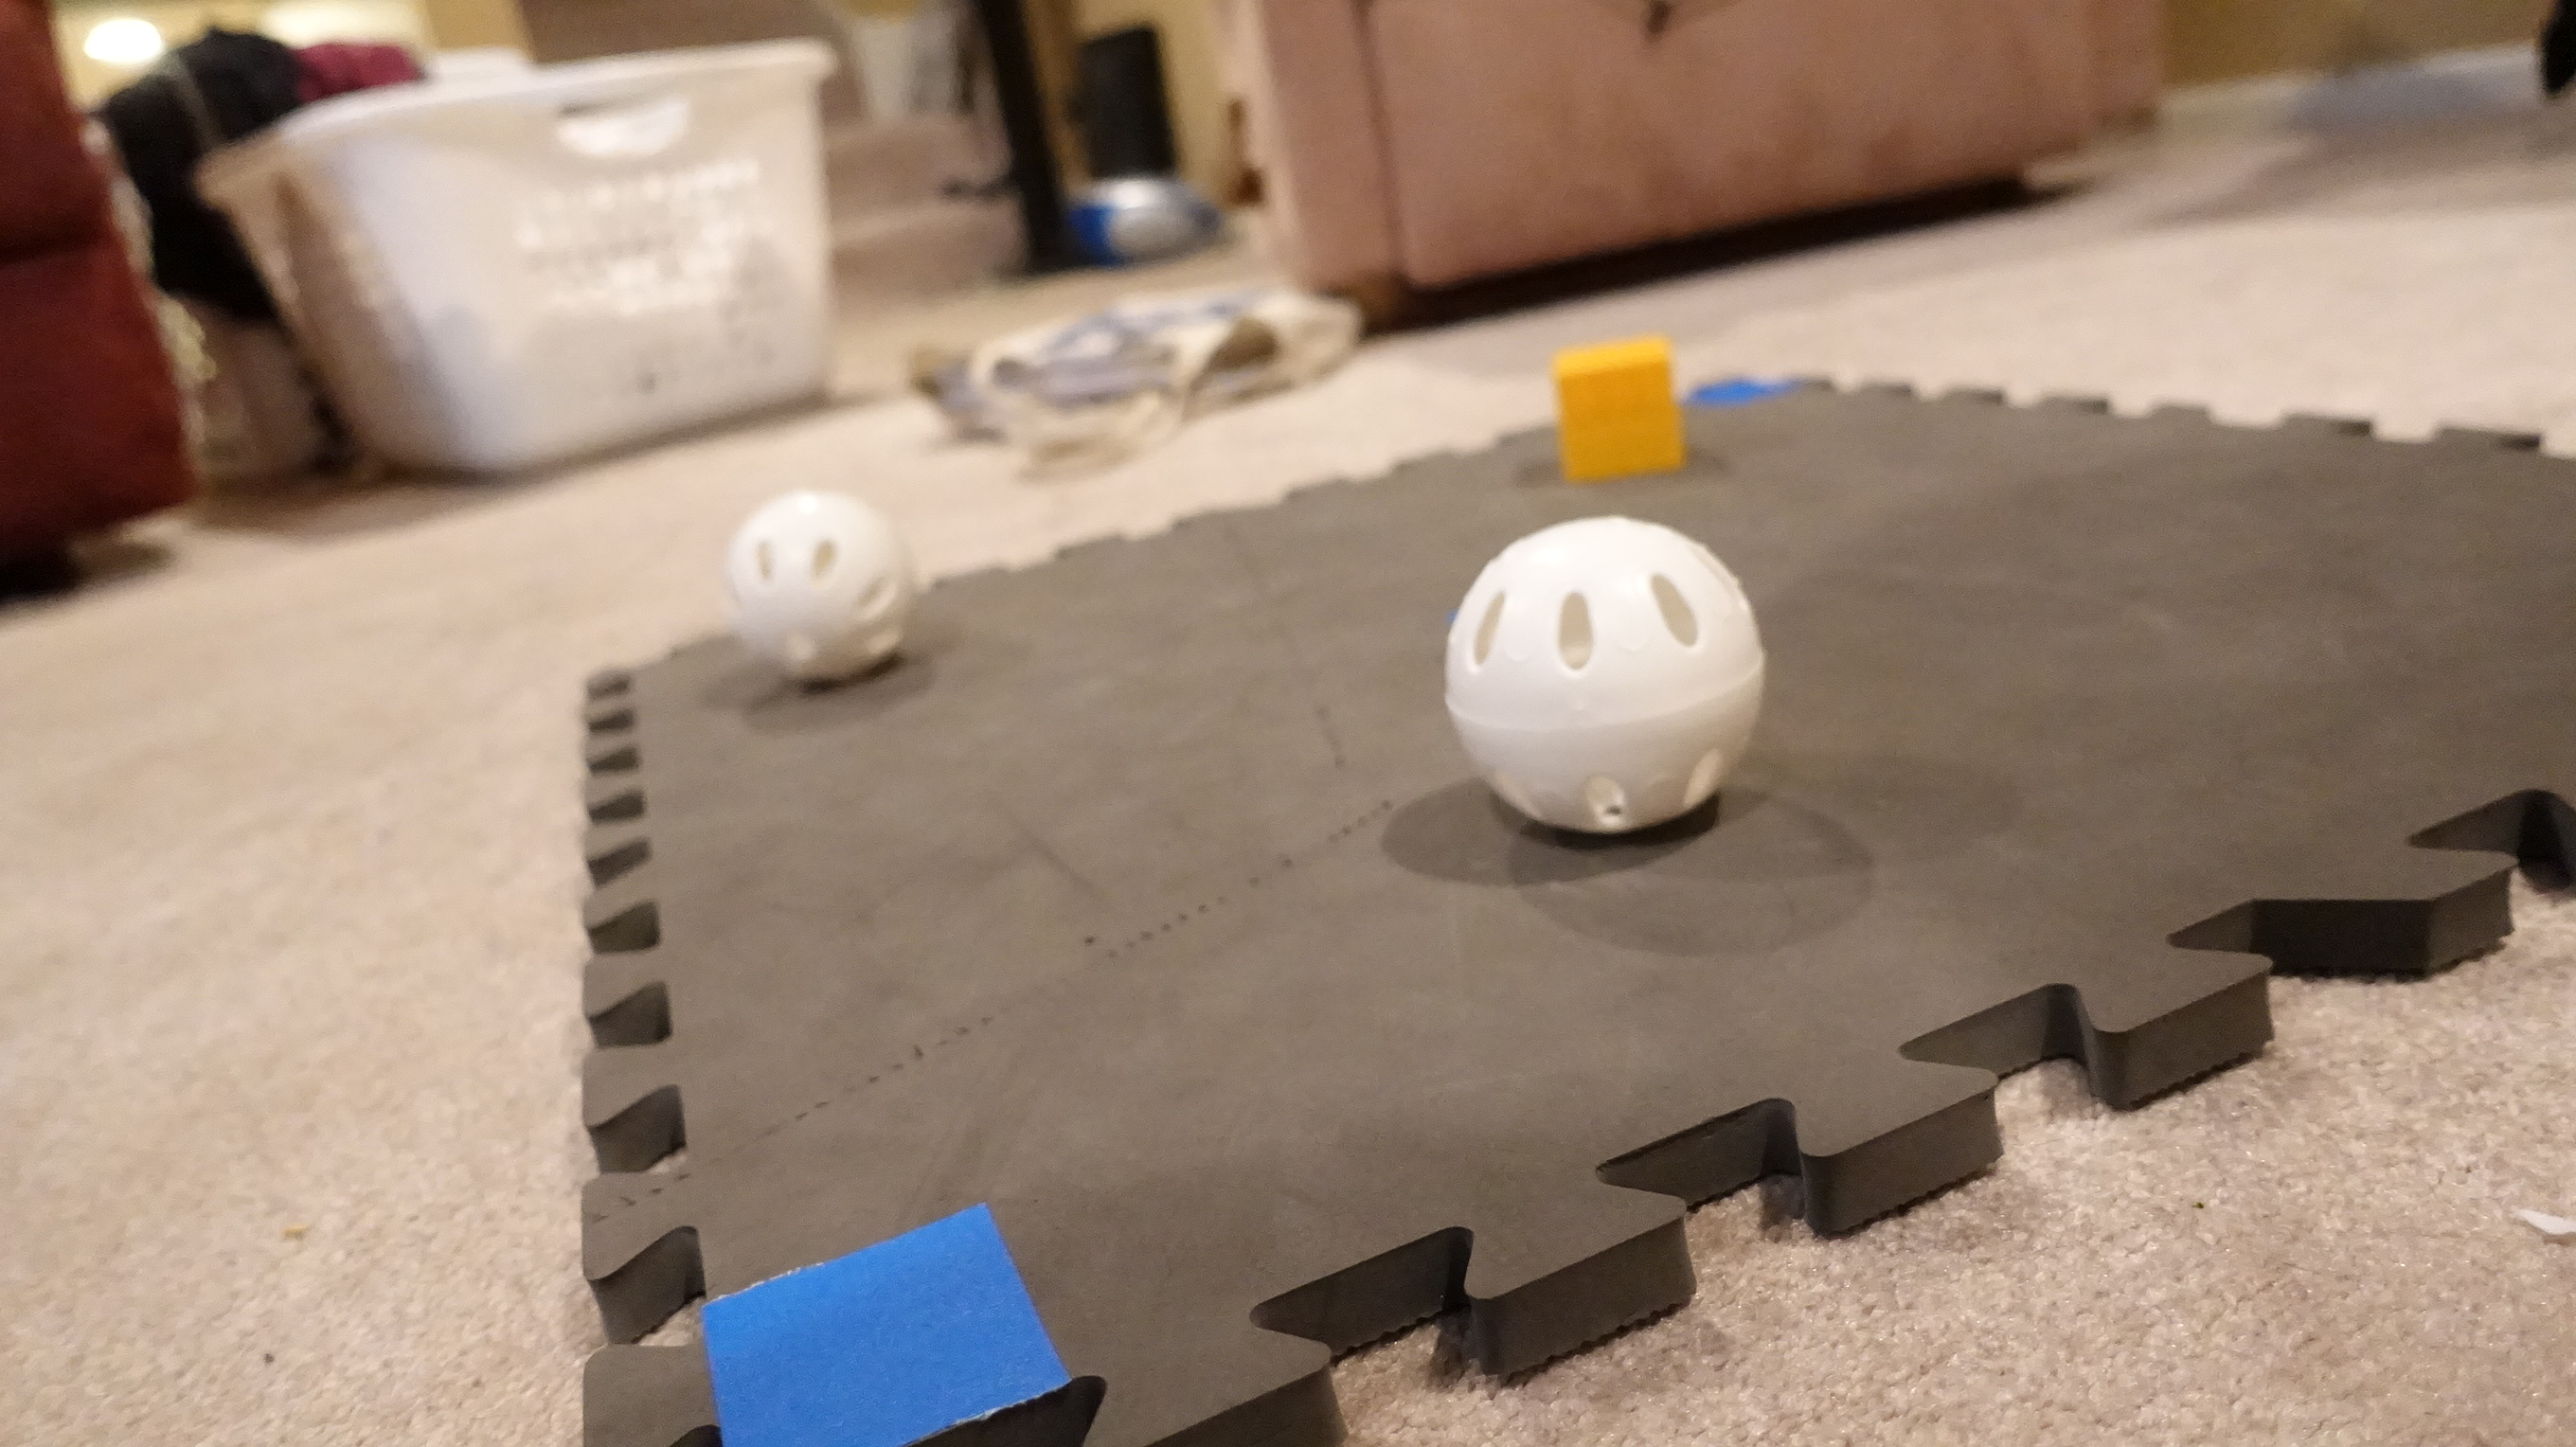gold: (1541, 336, 1707, 490)
silver: (1447, 513, 1769, 851), (718, 486, 929, 688)
